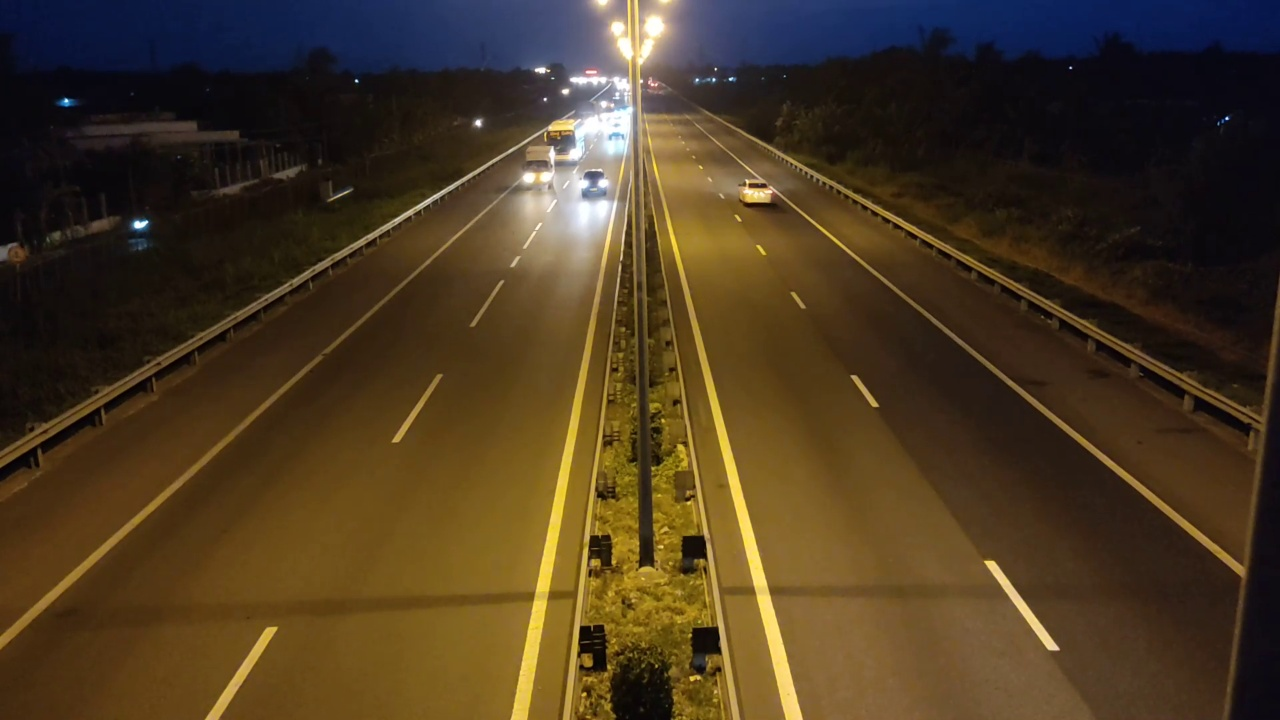car: (737, 178, 775, 207), (579, 169, 610, 198)
